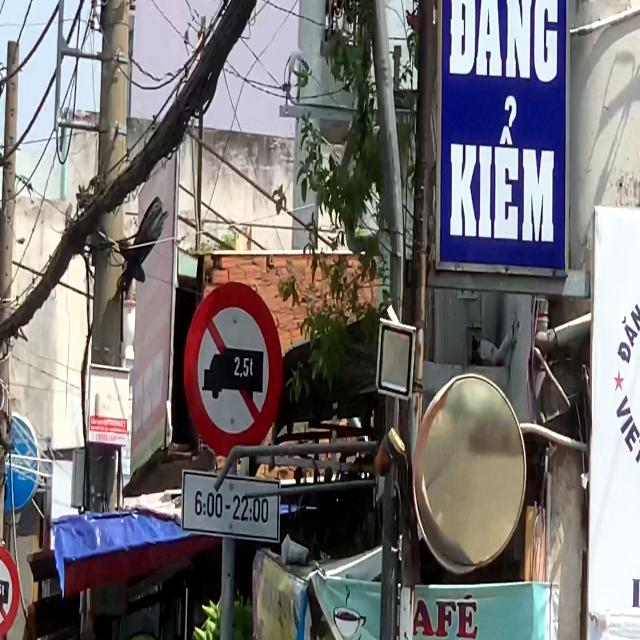P.106b: (184, 280, 282, 458)
